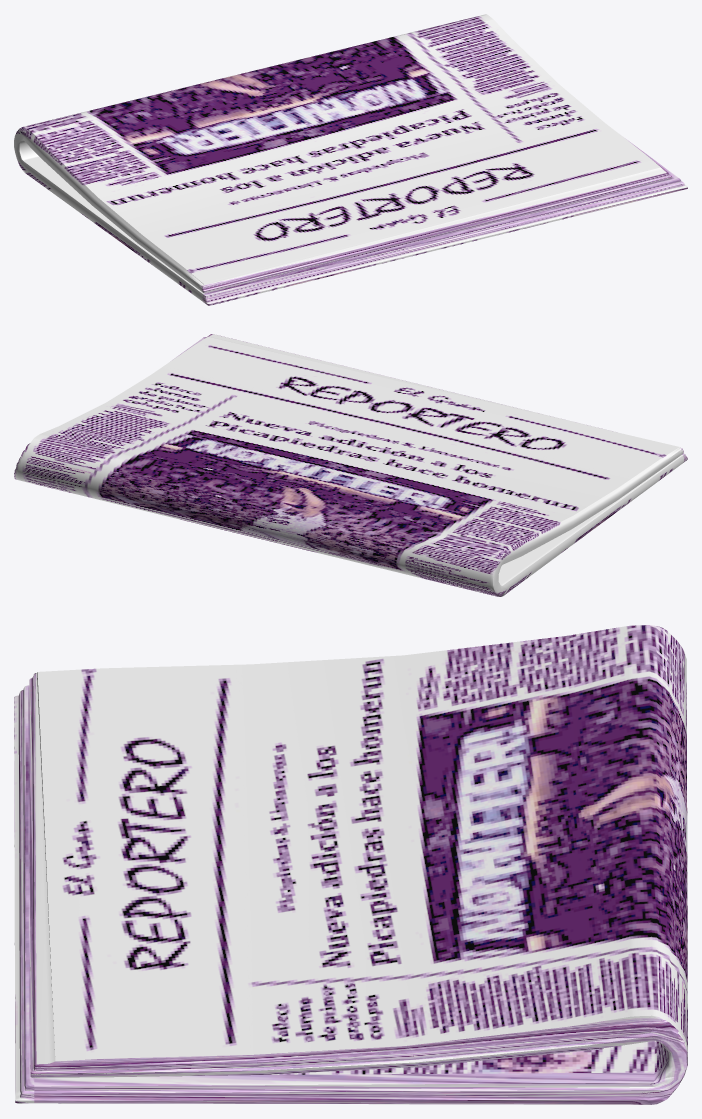
Rendered from periodico.glb.
The picture shows the model from 3 angles, top to bottom: view 1: azimuth 30°, elevation 25°; view 2: azimuth 150°, elevation 25°; view 3: azimuth 270°, elevation 25°; orthographic projection. The views are drawn at different scales.
Parts seen in each view (by area): view 1: Periodico; view 2: Periodico; view 3: Periodico.
Part boxes in pixels (x1,y1,x2,y2): Periodico: (14,14,687,305); Periodico: (14,334,687,596); Periodico: (14,625,687,1104).
Size of the model in its own units: 0.8465 by 0.0754 by 0.5943.
Materials: 1 (1 with a texture image).
